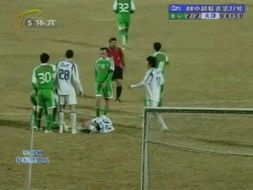falling: (74, 110, 117, 135)
